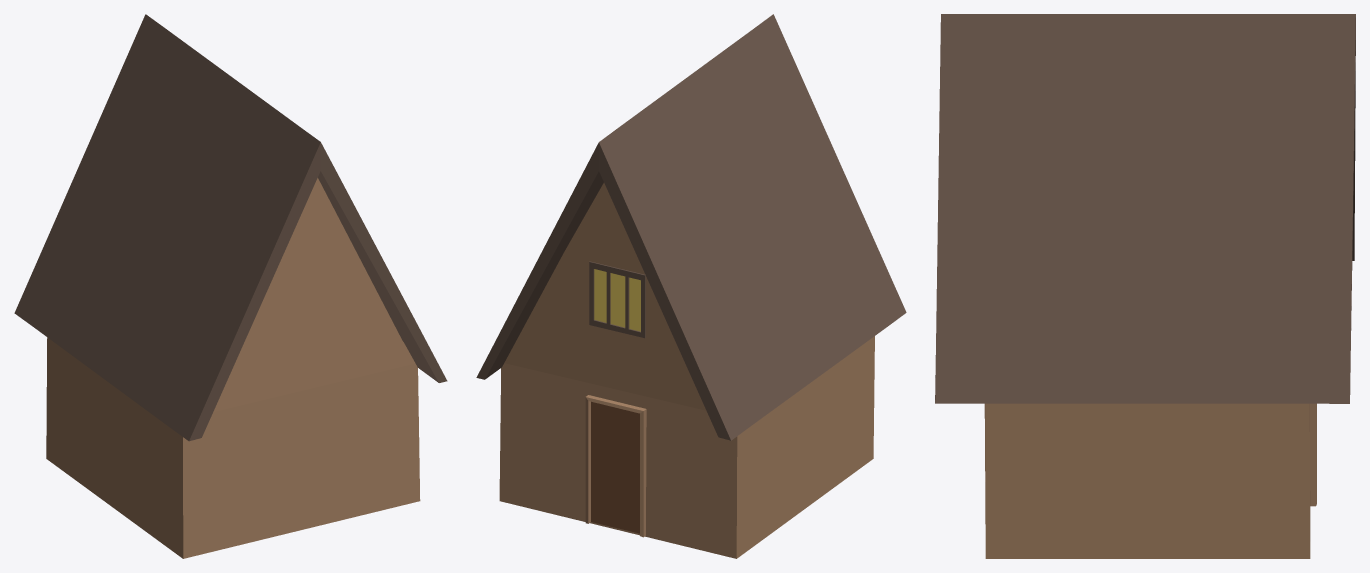
Rendered from House.fbx.
3 renders of one model, left to right at view 1: azimuth 30°, elevation 25°; view 2: azimuth 150°, elevation 25°; view 3: azimuth 270°, elevation 25°, orthographic. The views are drawn at different scales.
Visible parts, largest first — view 1: Cube; view 2: Cube, Cube.001; view 3: Cube.
Boxes of the visible parts, x1,y1,x2,y2 form: Cube: (14,14,447,558); Cube: (476,14,906,558); Cube.001: (589,261,645,338); Cube: (935,14,1355,558).
Bounding box in the file's own units: 426 × 637 × 510.
